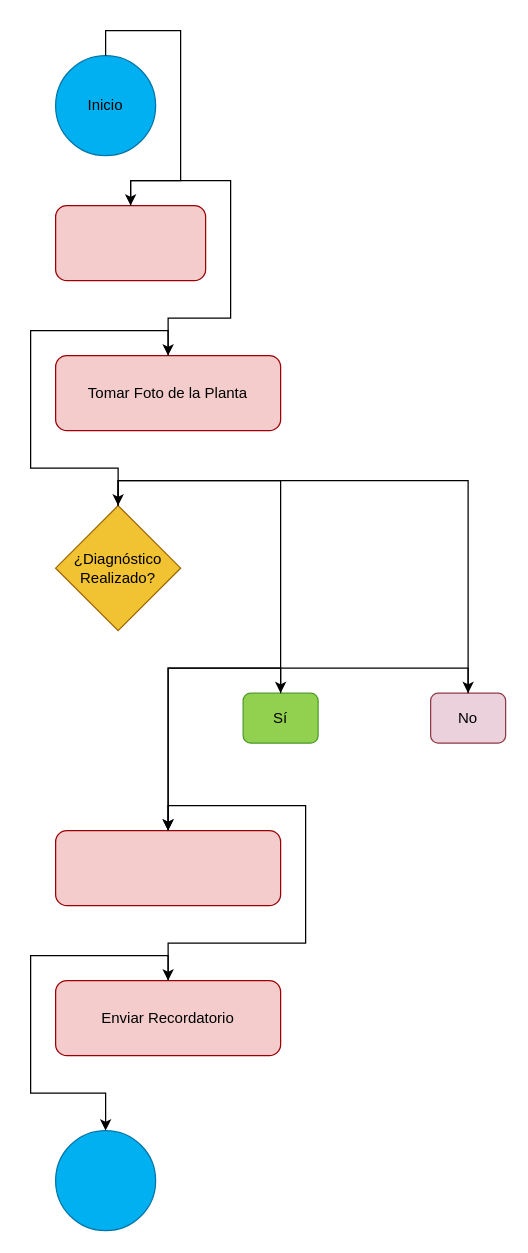
The diagram is 528 pixels wide and 1253 high, and some of its shapes have lost their labels. Here are the shapes that lost their labels. From the top down, the centre of each, then its label:
At [130,242]: "Seleccionar Planta".
At [167,867]: "Confirmar Cuidados".
At [105,1180]: "Fin".
